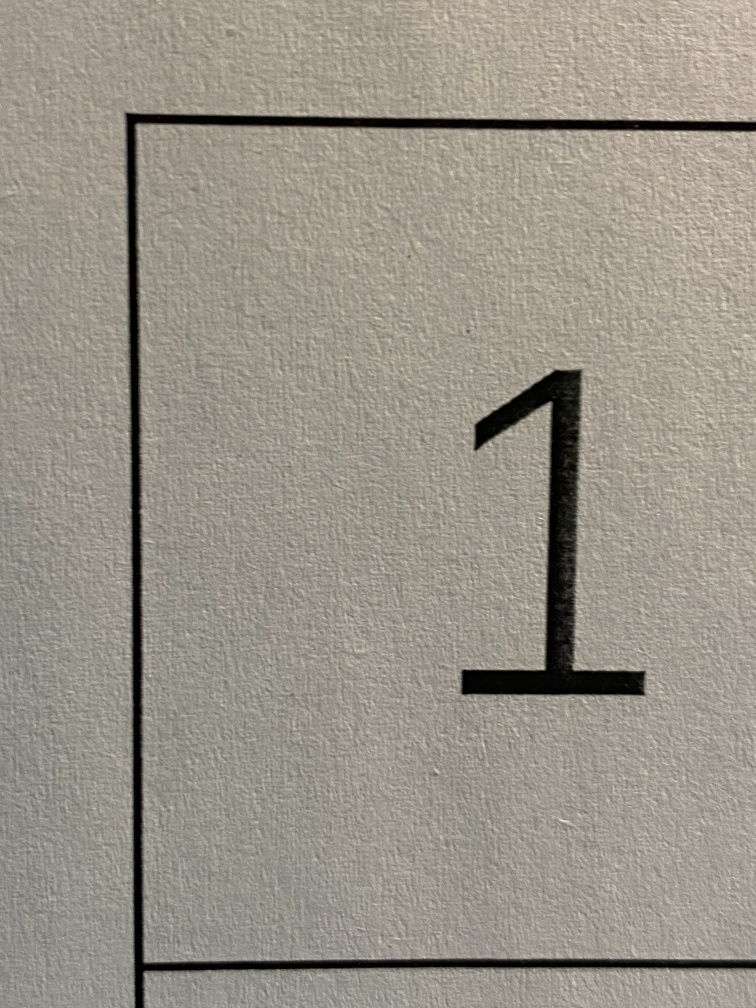one: (430, 348, 663, 748)
